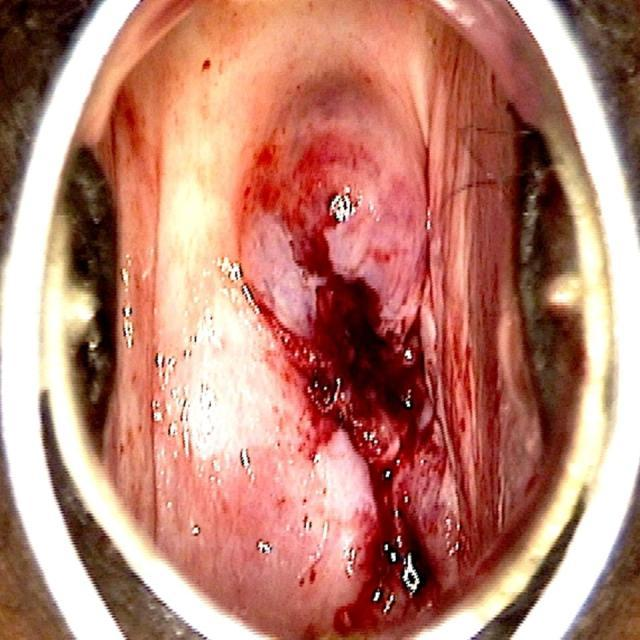cervical_lesion: (93, 20, 556, 640)
